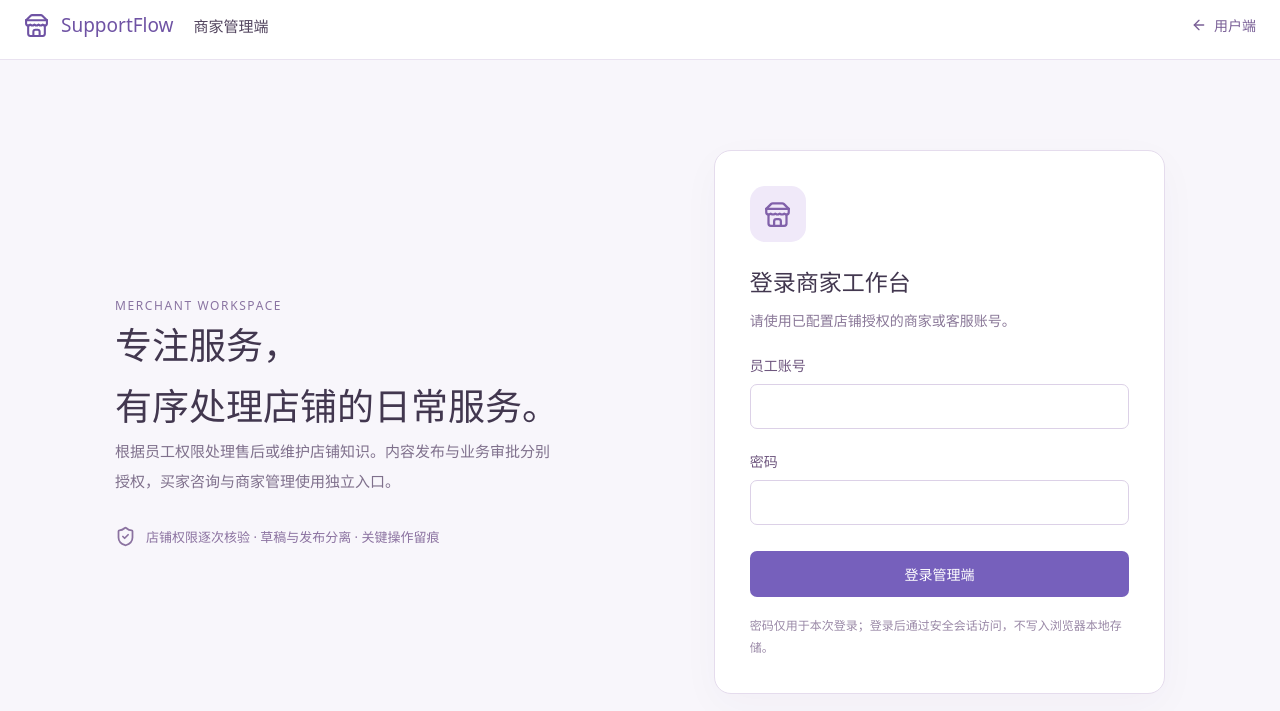
it: MerchantApp › does not display knowledge controls to review-only staff
Step 1. Type "staff" into the field with test id "merchant-username" → (939, 407), box [750,384,1129,429]
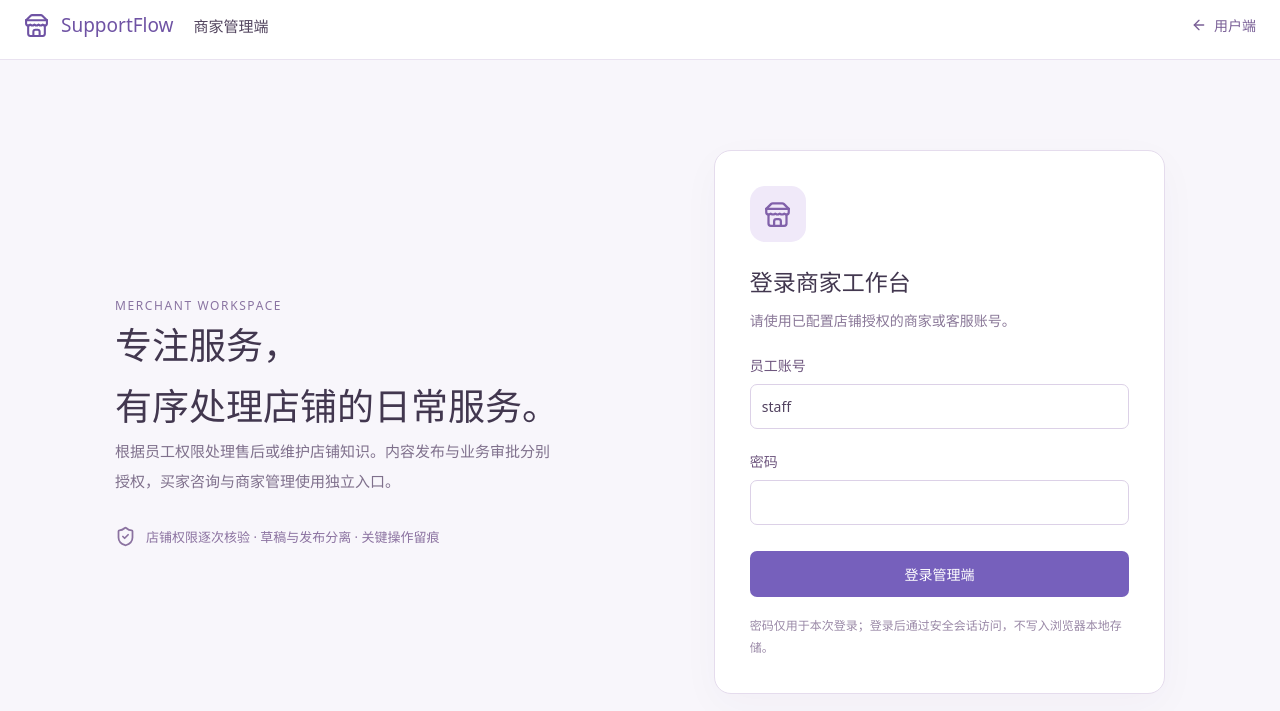
Step 2. Type "test" into the password field with test id "merchant-password" → (939, 503), box [750,480,1129,525]
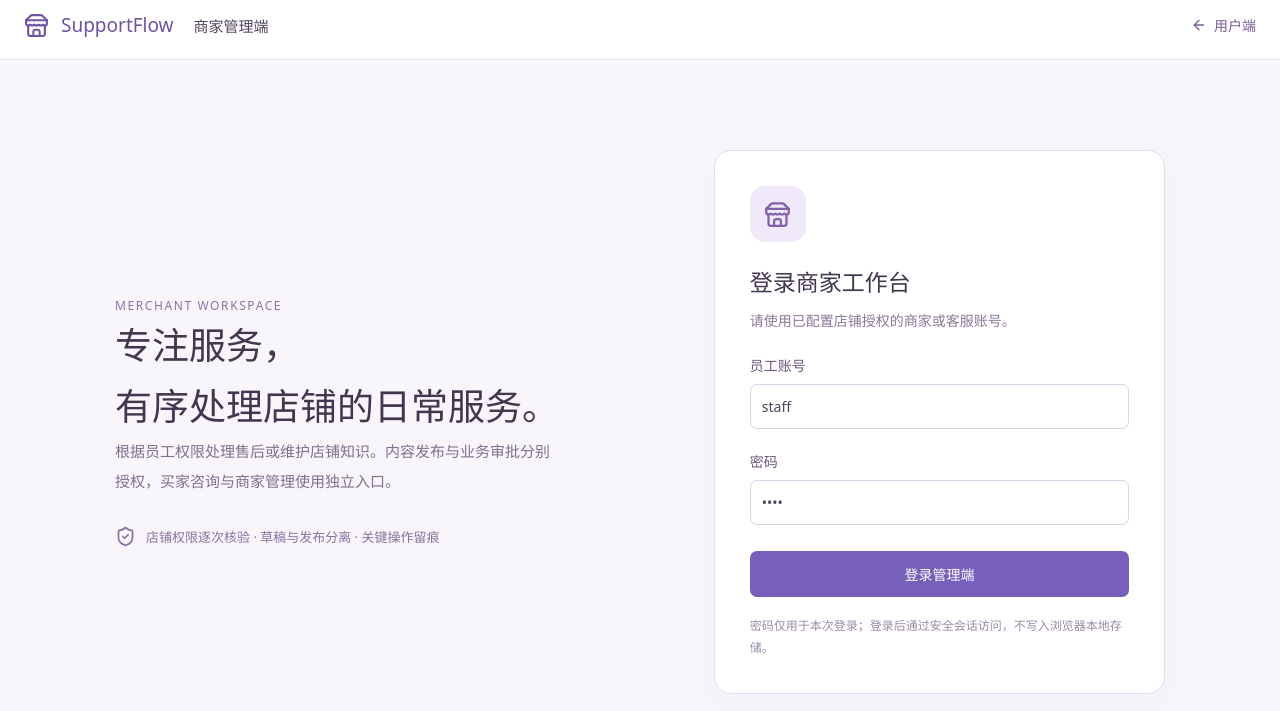
Step 3. Submit the form with test id "merchant-login", box [714,150,1165,694]
(page scrolled)
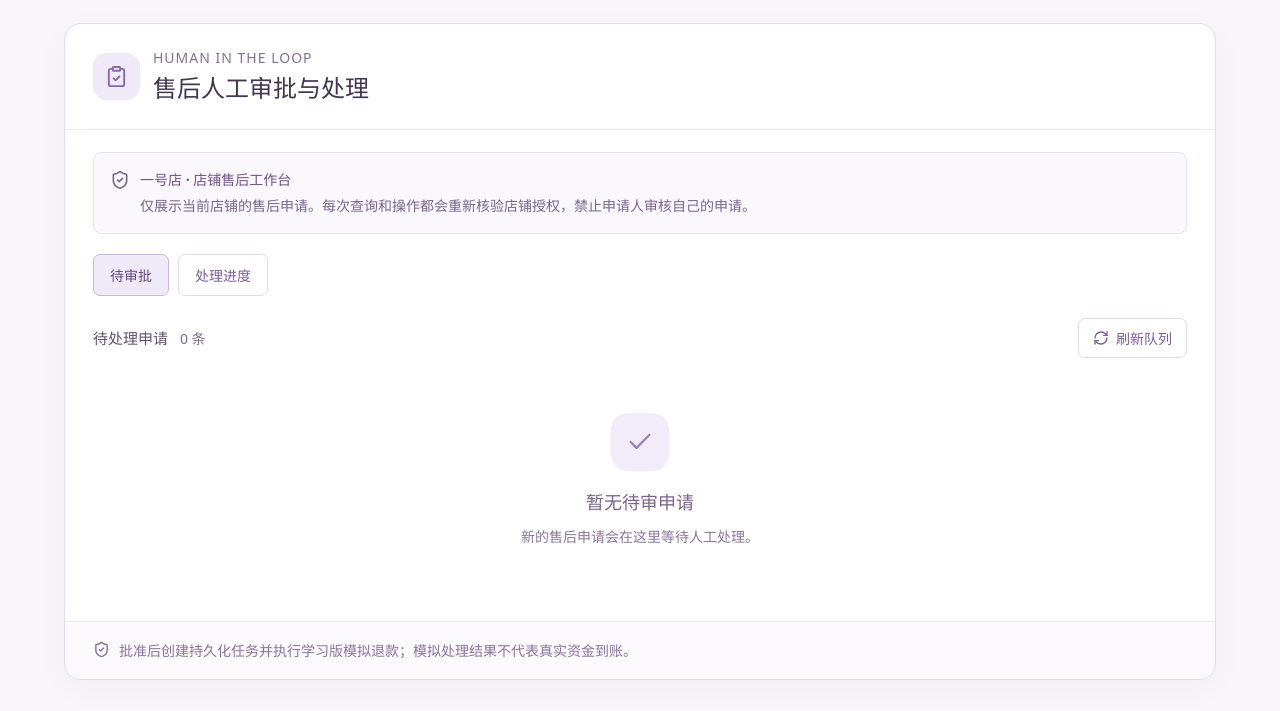
Expected: the element with test id "review-panel" is shown
